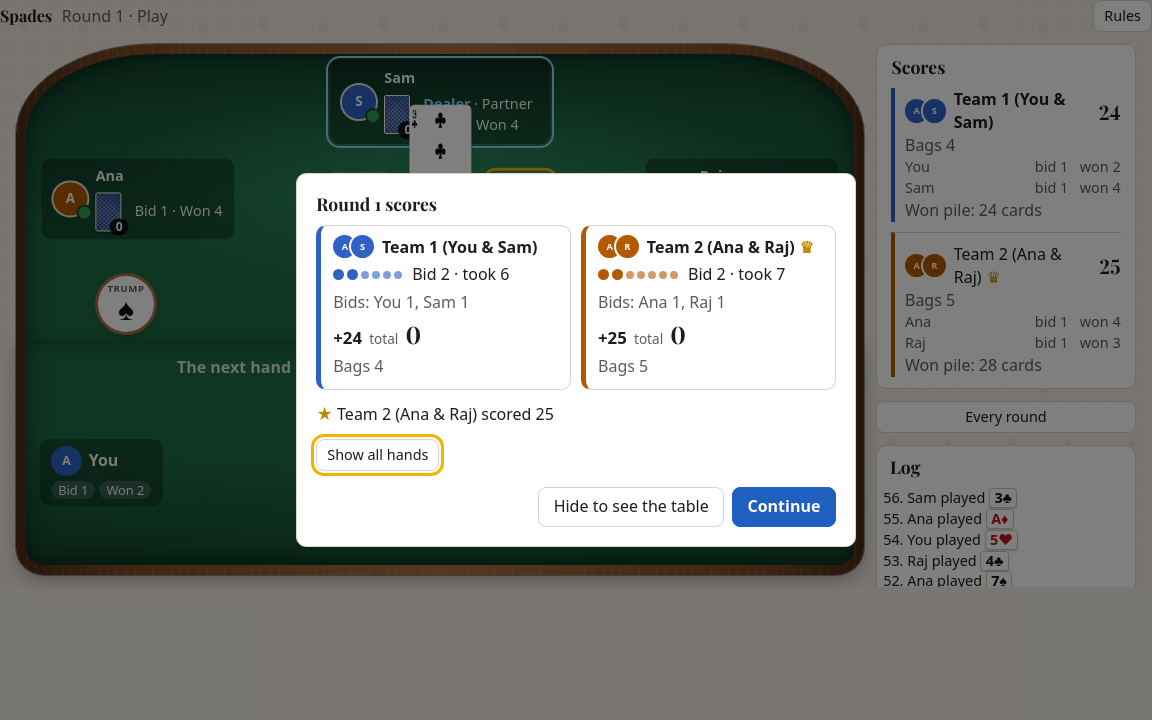
Scenario: TableView › lets you hide the round scores to look at the table, then show them or carry on
Expected: the heading "Round 1 scores" is shown, [316, 192, 437, 215]
Click the button "Hide to see the table": (631, 507) [538, 487, 724, 527]
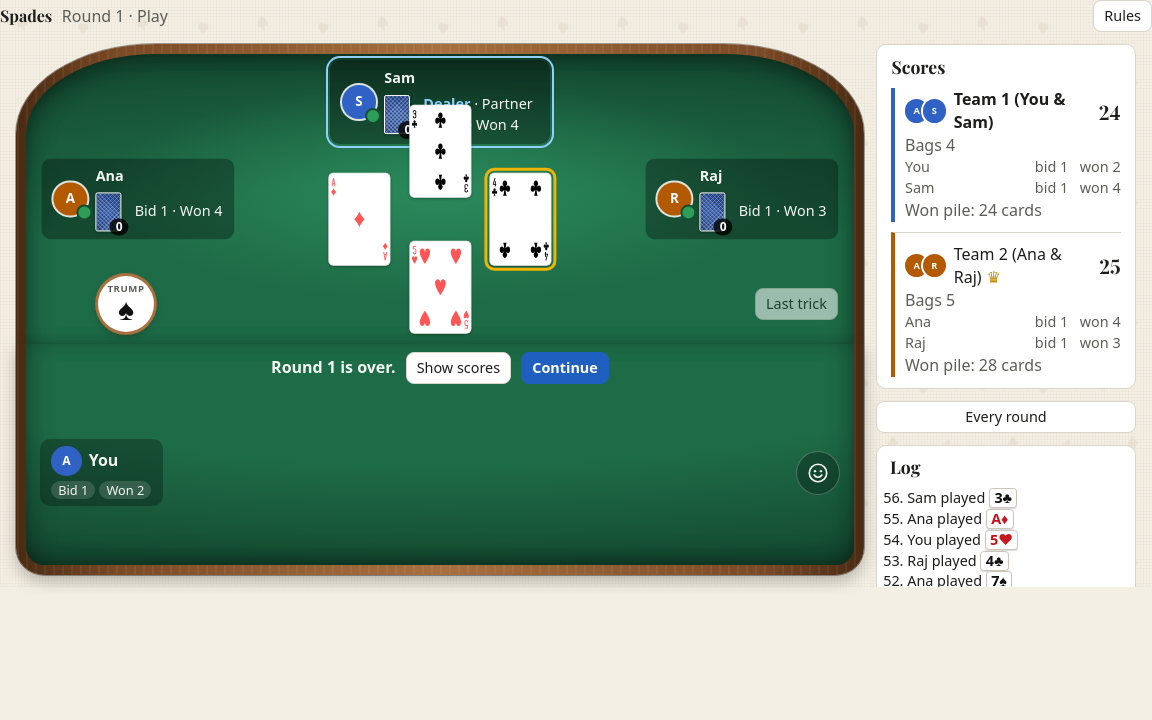
Now the heading "Round 1 scores" is gone
Now the text "Round 1 is over." is shown, box [271, 356, 396, 380]
Click the button "Show scores": (458, 368) [406, 352, 511, 384]
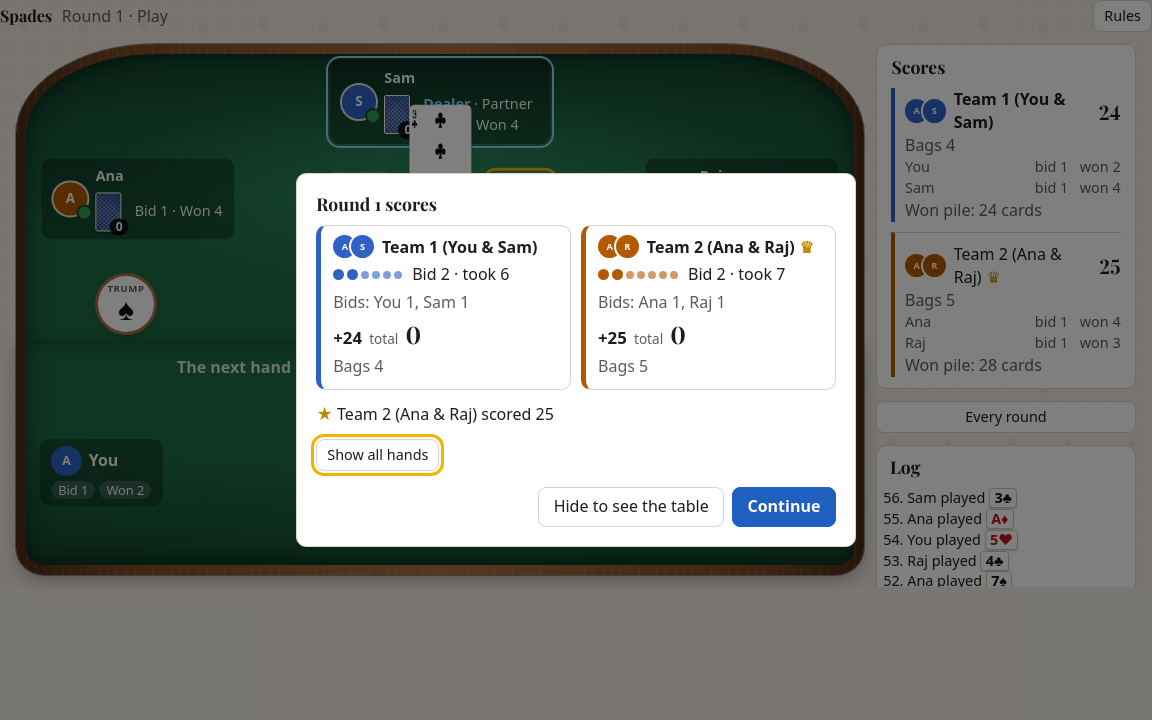
Now the heading "Round 1 scores" is shown, box [316, 192, 437, 215]
Click the button "Hide to see the table": (631, 507) [538, 487, 724, 527]
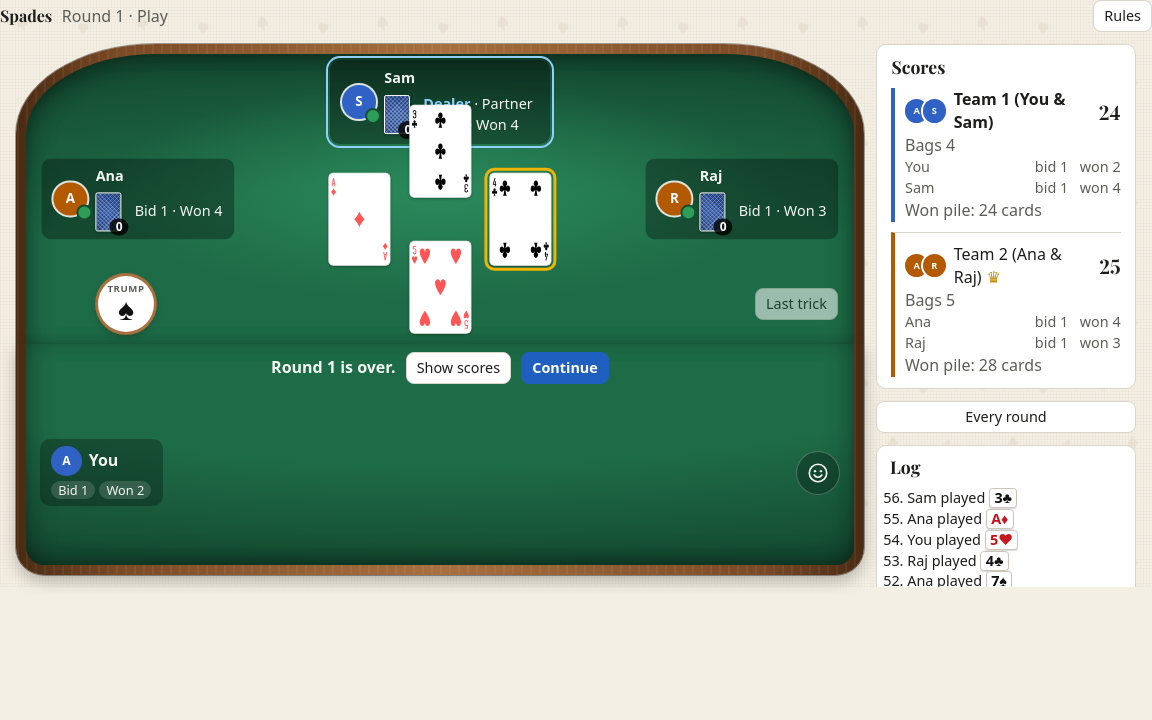
Click the button "Continue": (565, 368) [521, 352, 609, 384]
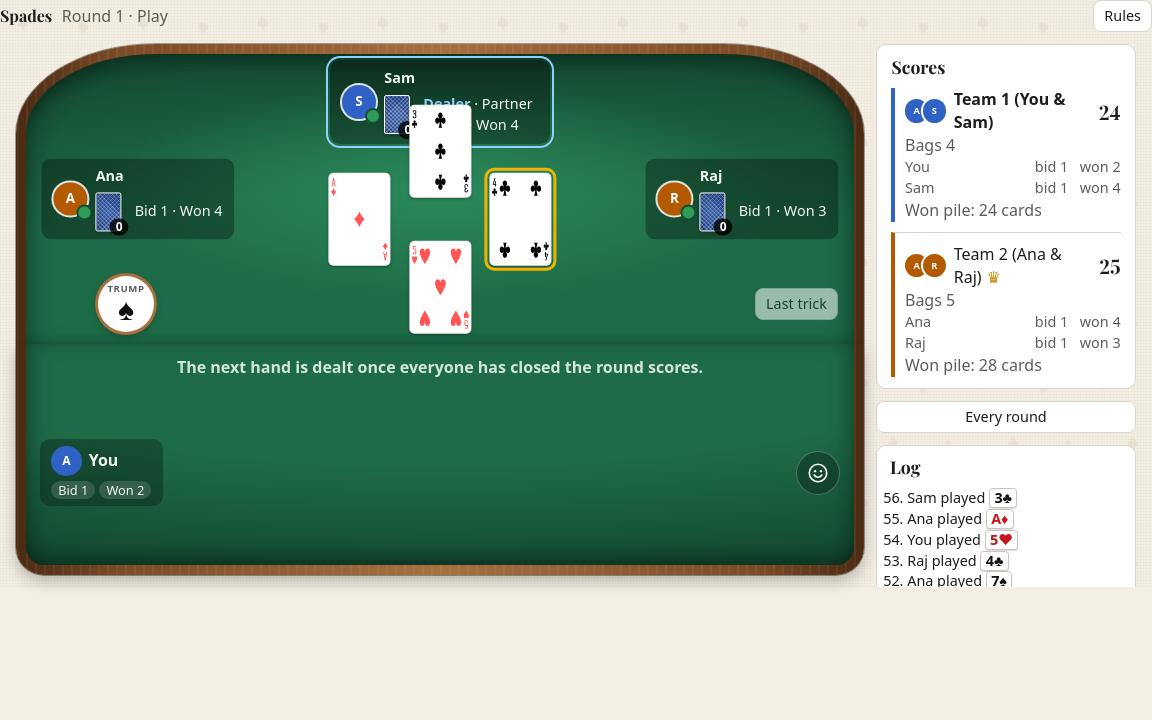
Expected: the heading "Round 1 scores" is not shown
Now the text "Round 1 is over." is gone
